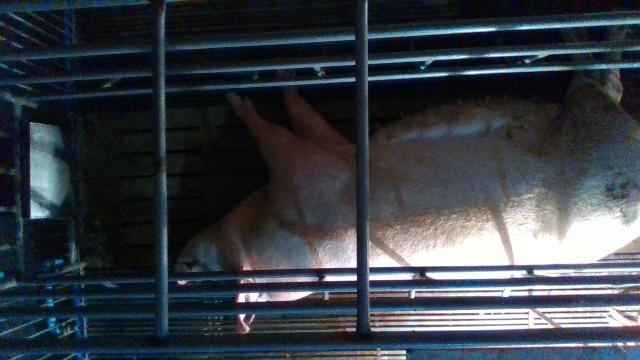sow-sleep-lactate: (174, 27, 640, 336)
